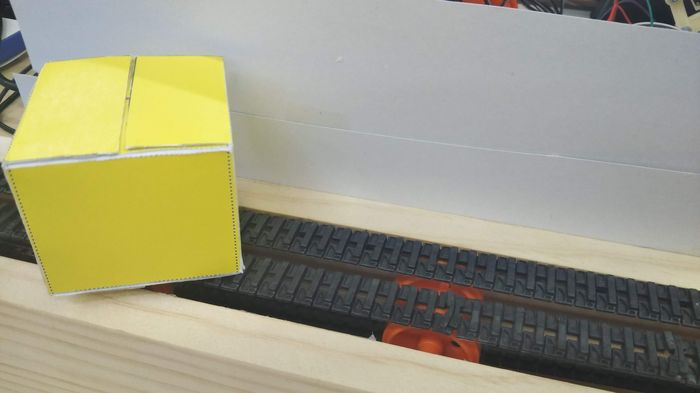box4: (3, 51, 247, 301)
